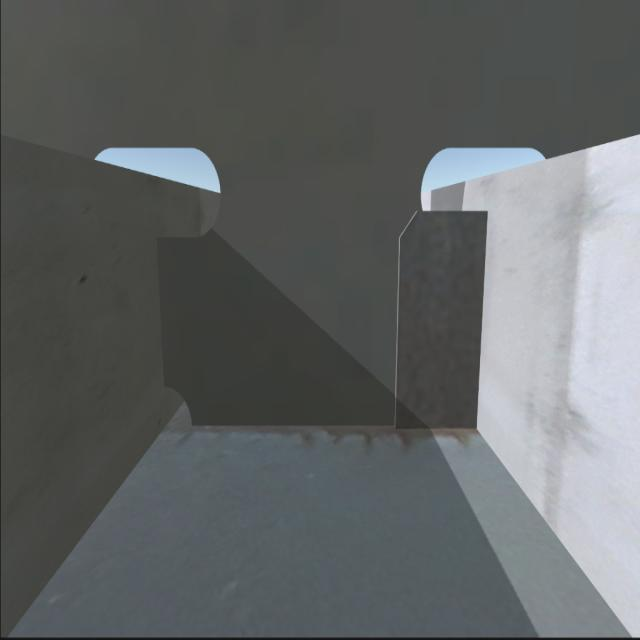fillet_hole: (163, 386, 196, 432)
fillet_yong_jeop_jang: (190, 419, 477, 439)
longi_yong_jeop_jang: (470, 209, 490, 429), (151, 239, 171, 386)
plate_CP03: (392, 203, 484, 426)
